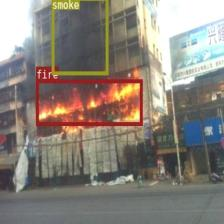fire: (35, 79, 142, 125)
smoke: (52, 0, 108, 75)
